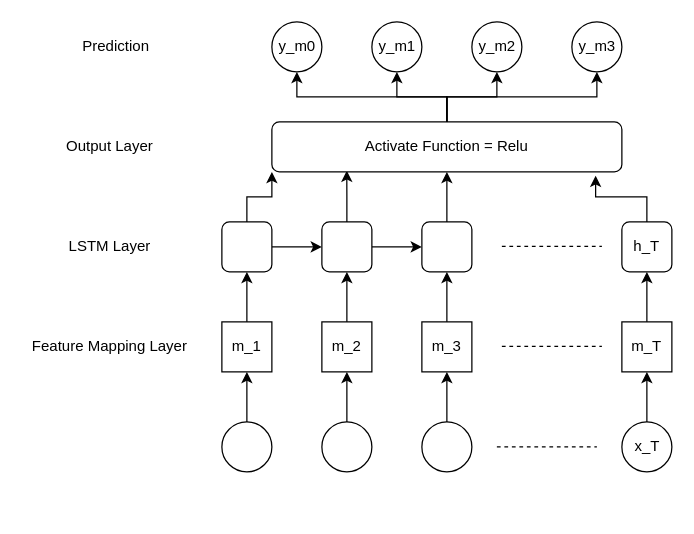
The diagram is 694 pixels wide and 534 high, and some of its shapes have lost their labels. Each missing label, with the box of its shape:
h_1: (221, 221, 272, 272)
h_2: (321, 221, 372, 272)
h_3: (421, 221, 472, 272)
x_1: (221, 421, 272, 472)
x_2: (321, 421, 372, 472)
x_3: (421, 421, 472, 472)
